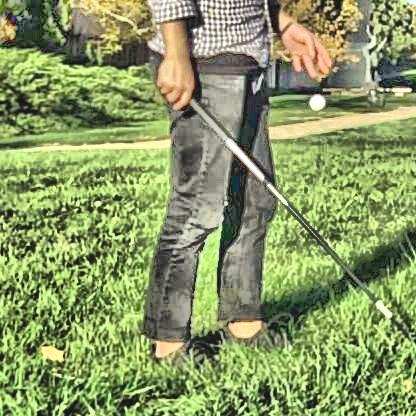golfball: (303, 89, 324, 108)
